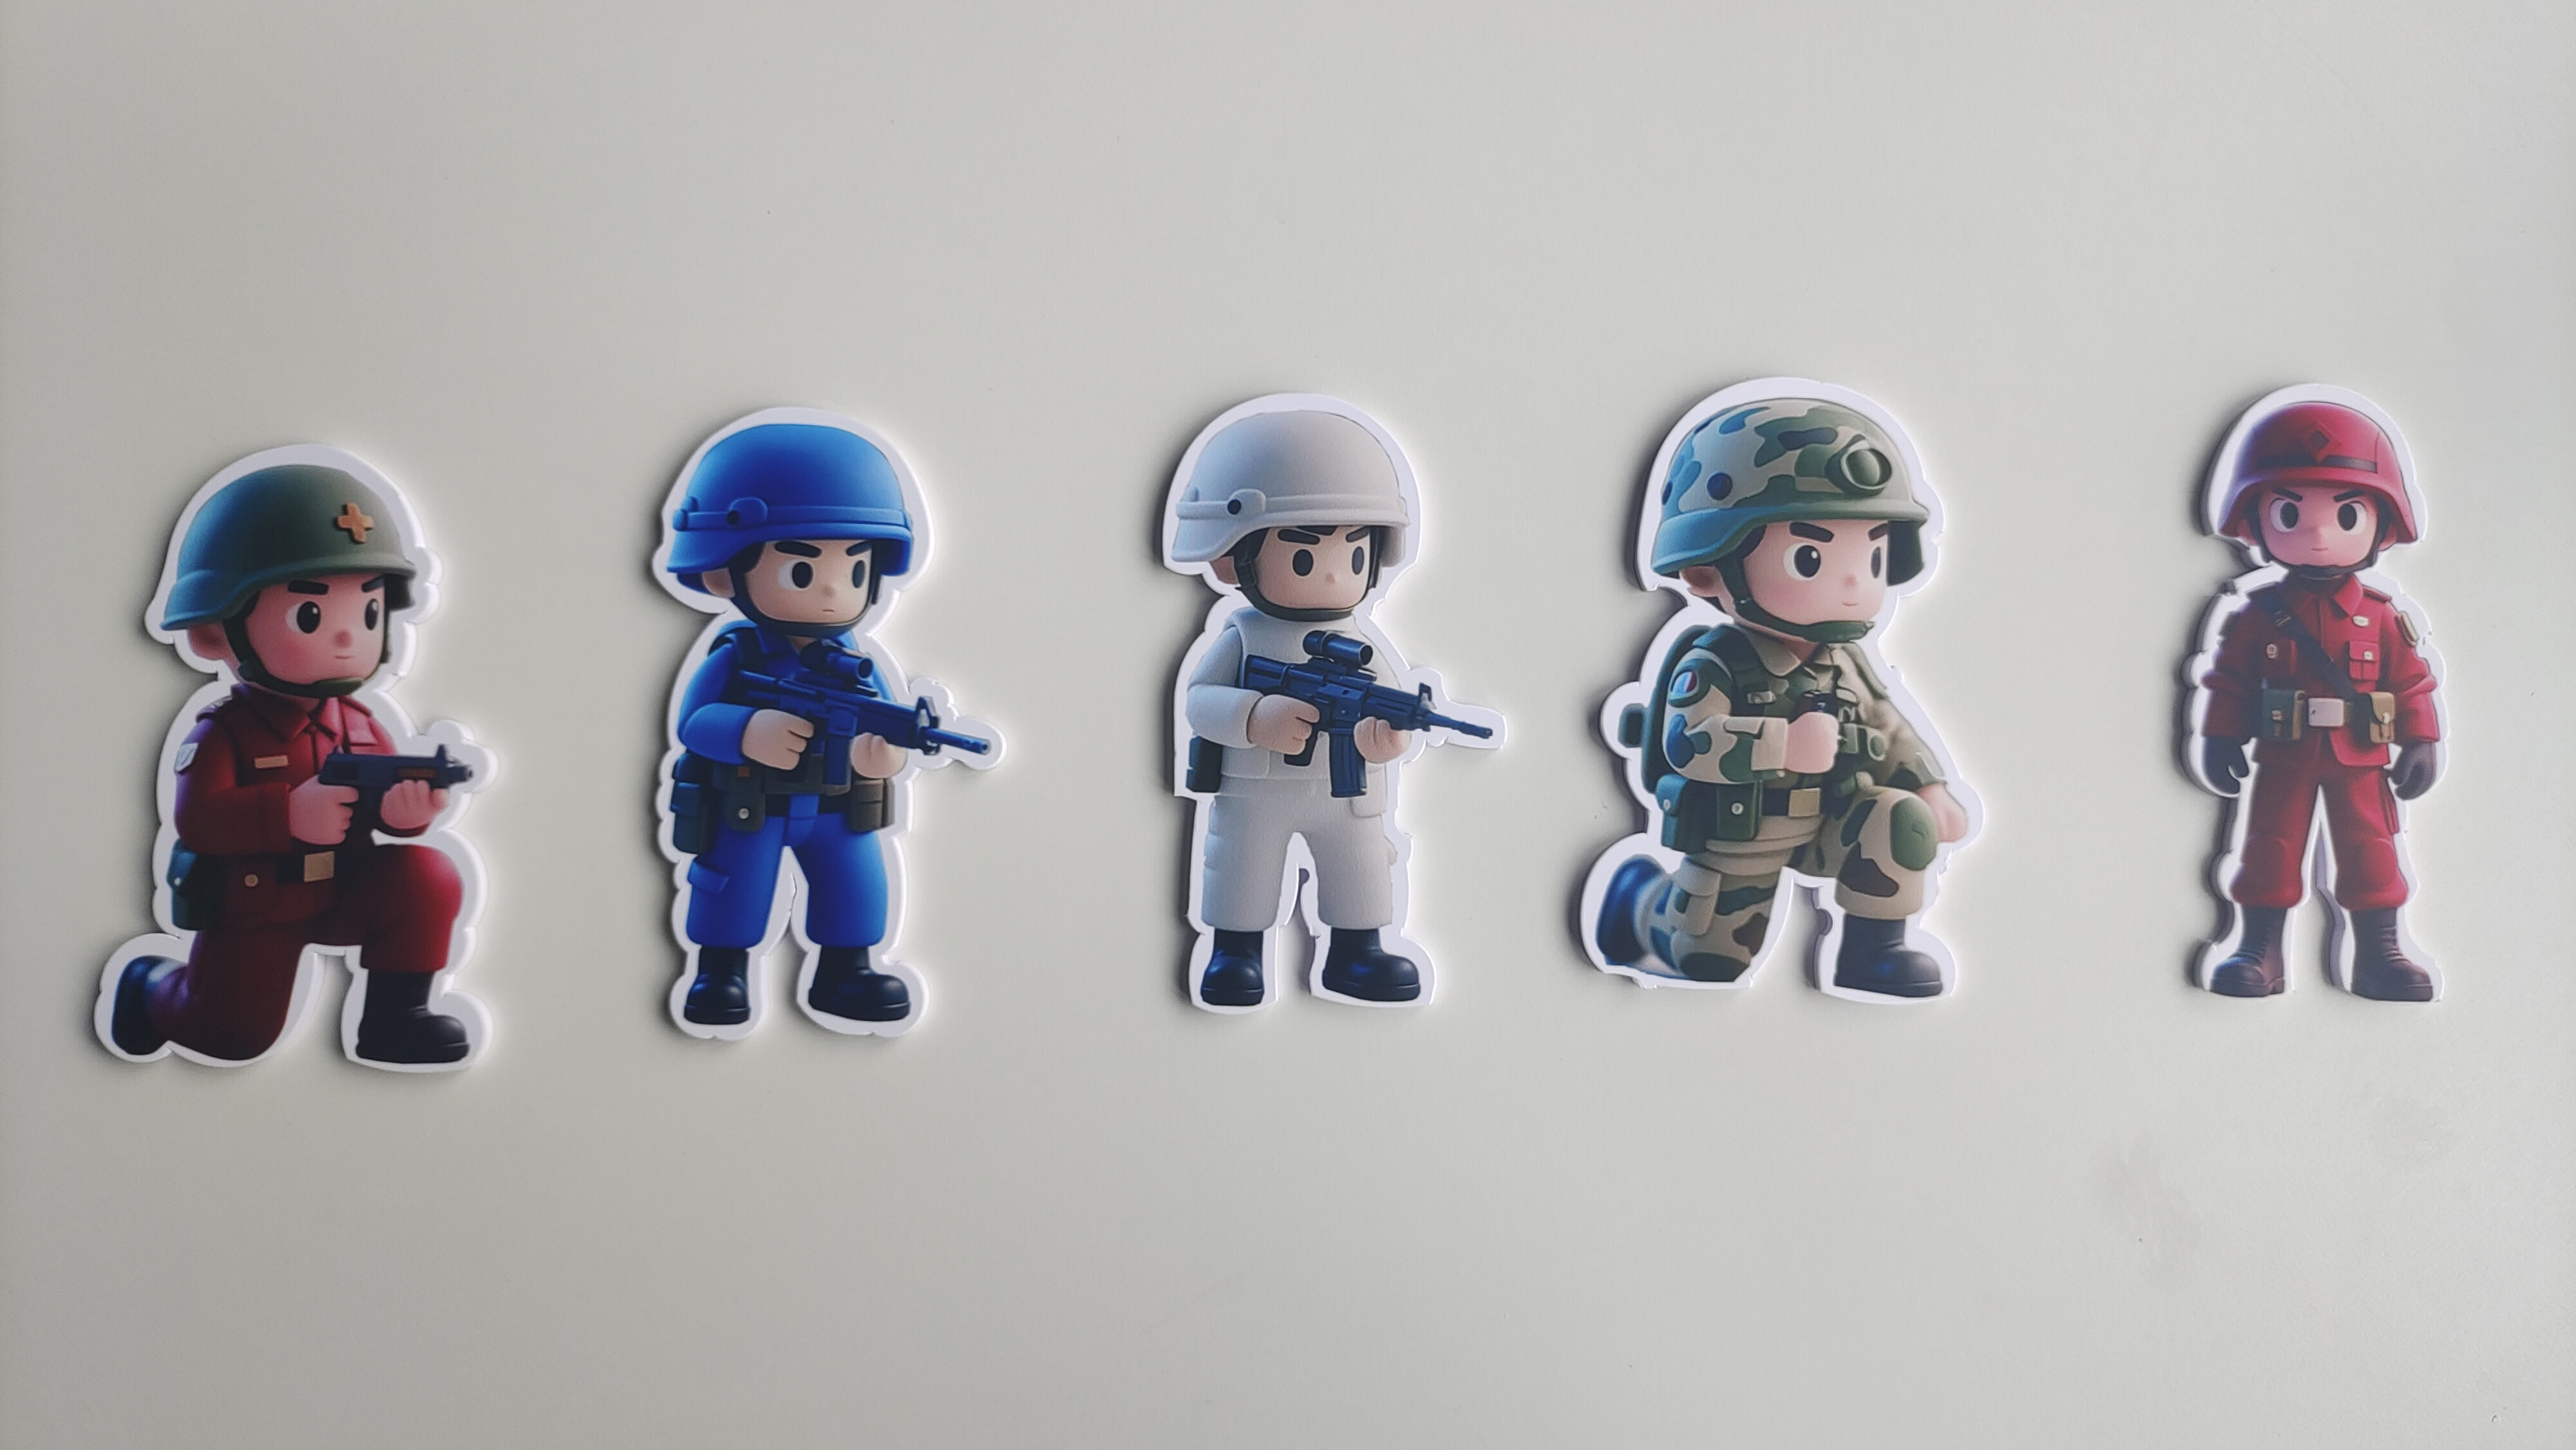enemy1: (76, 693, 510, 1093), (2153, 566, 2456, 1022)
enemy2: (633, 635, 938, 1054)
friend: (1566, 612, 1980, 1003)
hostage: (1148, 615, 1461, 1038)
